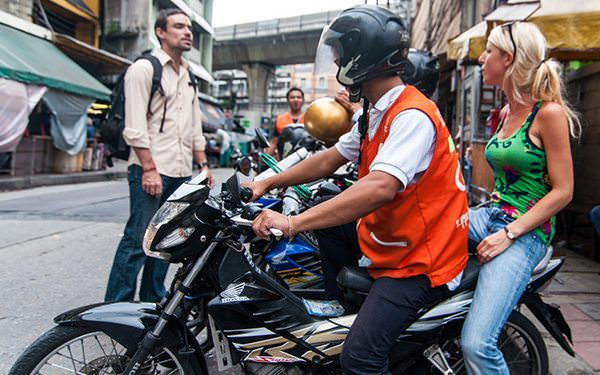with_helmet: (293, 5, 420, 88)
